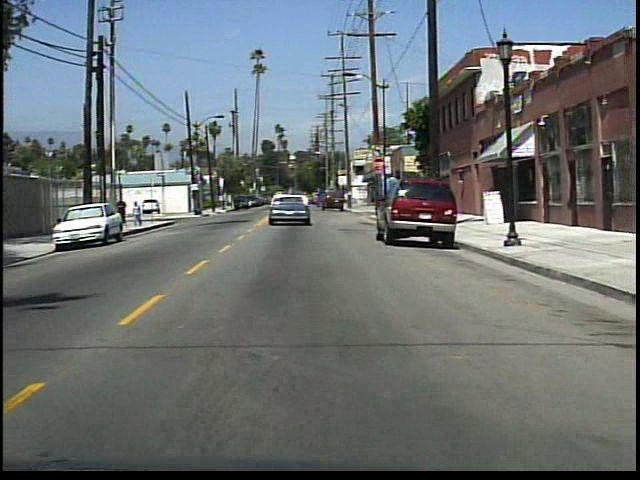person: (115, 195, 132, 229), (132, 199, 146, 229)
